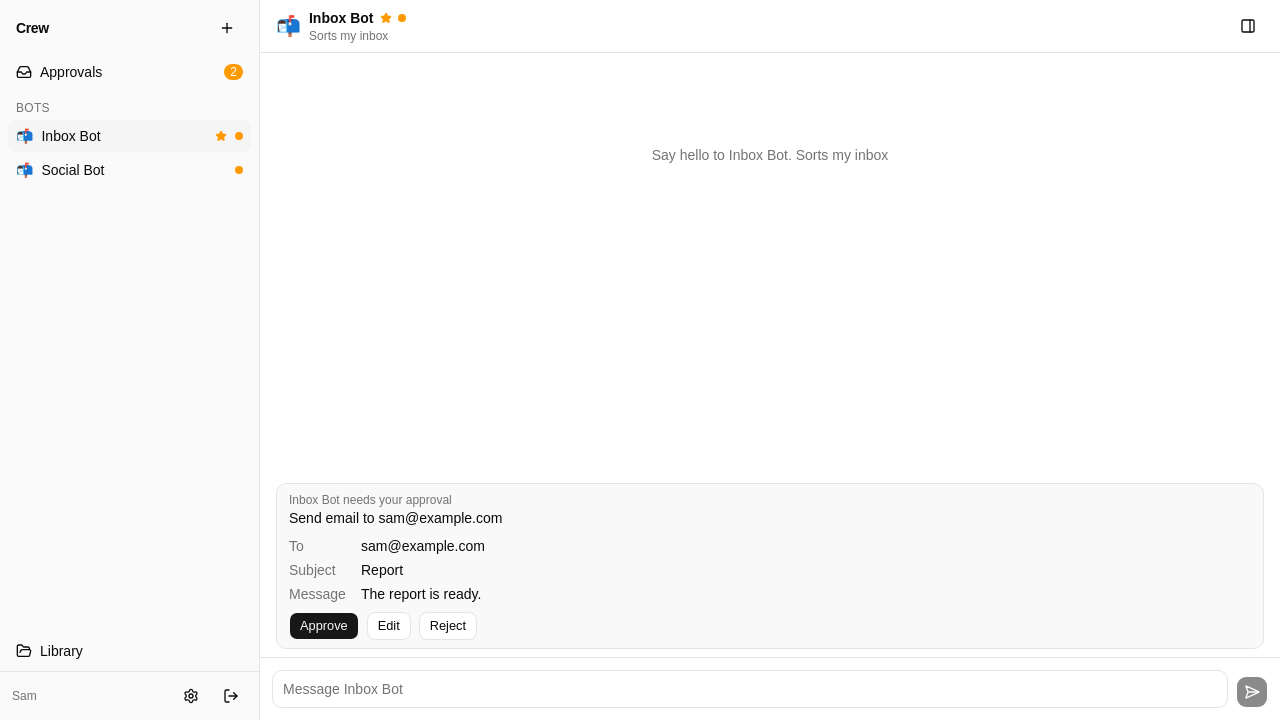
Test: the Approvals screen lists everything pending, grouped by Bot
Check: the element showing "Say hello to Inbox Bot. Sorts my inbox" is shown, box x1=652 y1=147 x2=888 y2=163
Check: the text named "2 pending" is shown, box x1=224 y1=64 x2=243 y2=80
Click the button "Approvals 2" at (130, 72), box x1=8 y1=56 x2=251 y2=88
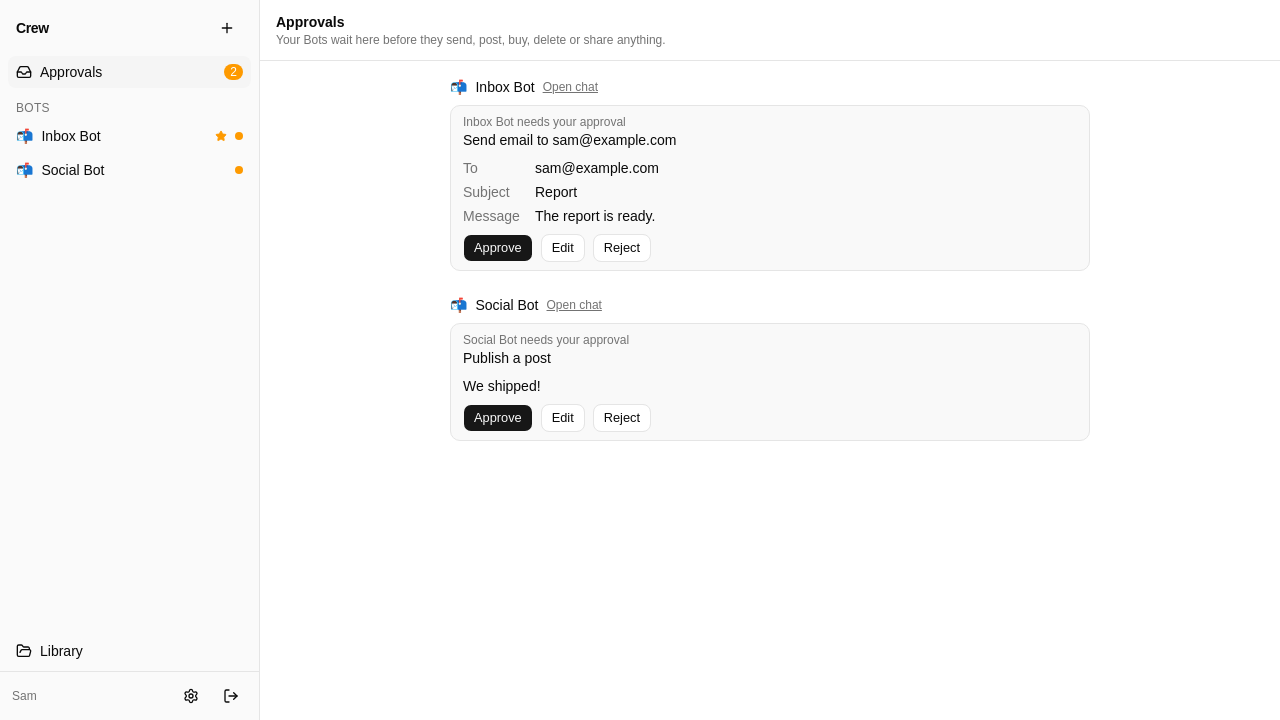
Check: the heading "Send email to sam@example.com" is shown, box x1=463 y1=132 x2=676 y2=148
Check: the text "We shipped!" is shown, box x1=463 y1=378 x2=541 y2=394
# "Open chat" goes back to that Bot.
Click the 2nd button "Open chat" at (574, 305), box x1=546 y1=297 x2=602 y2=313
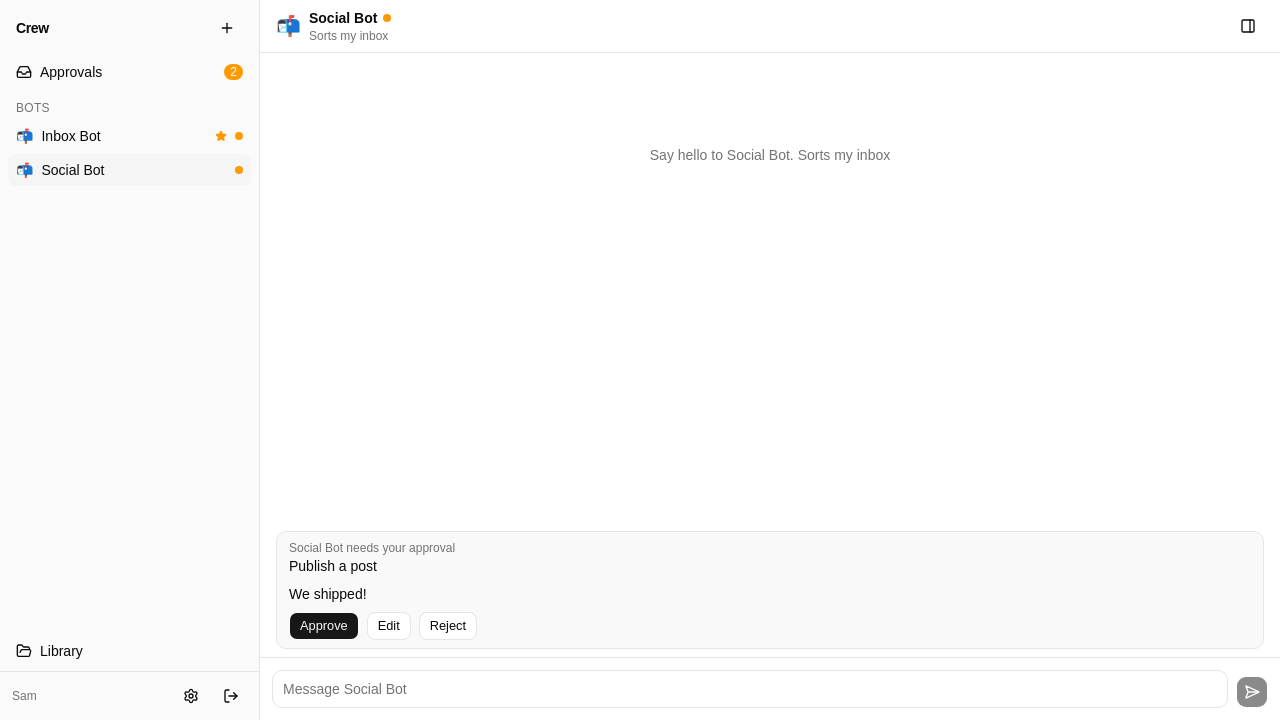
Check: the heading "Social Bot" is shown, box x1=309 y1=10 x2=392 y2=26
